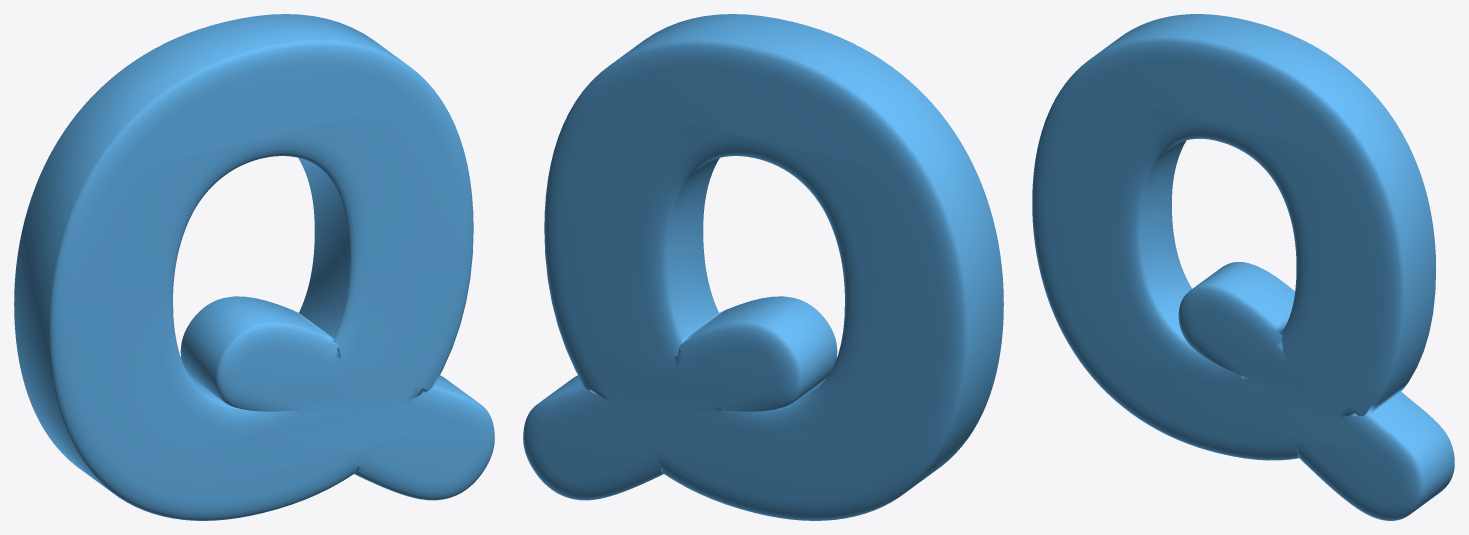
Rendered from RA_Letter_Q.fbx.
3 renders of one model, left to right at view 1: azimuth 30°, elevation 25°; view 2: azimuth 150°, elevation 25°; view 3: azimuth 330°, elevation 25°, orthographic. The views are drawn at different scales.
Parts seen in each view (by area): view 1: RA_Letter_Q; view 2: RA_Letter_Q; view 3: RA_Letter_Q.
Part boxes in pixels (<box>): RA_Letter_Q: <box>14,14,494,520</box>; RA_Letter_Q: <box>523,14,1003,520</box>; RA_Letter_Q: <box>1032,14,1454,520</box>.
Size of the model in its own units: 169 by 180 by 28.
